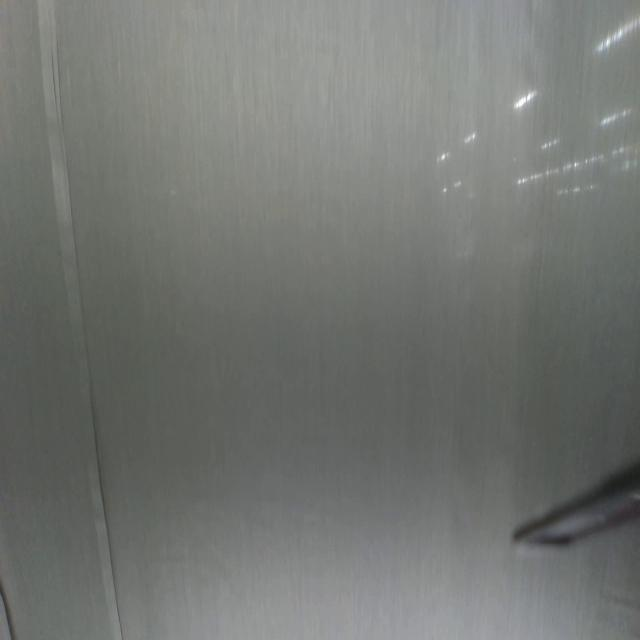crease: (36, 0, 125, 640), (0, 577, 15, 640)
